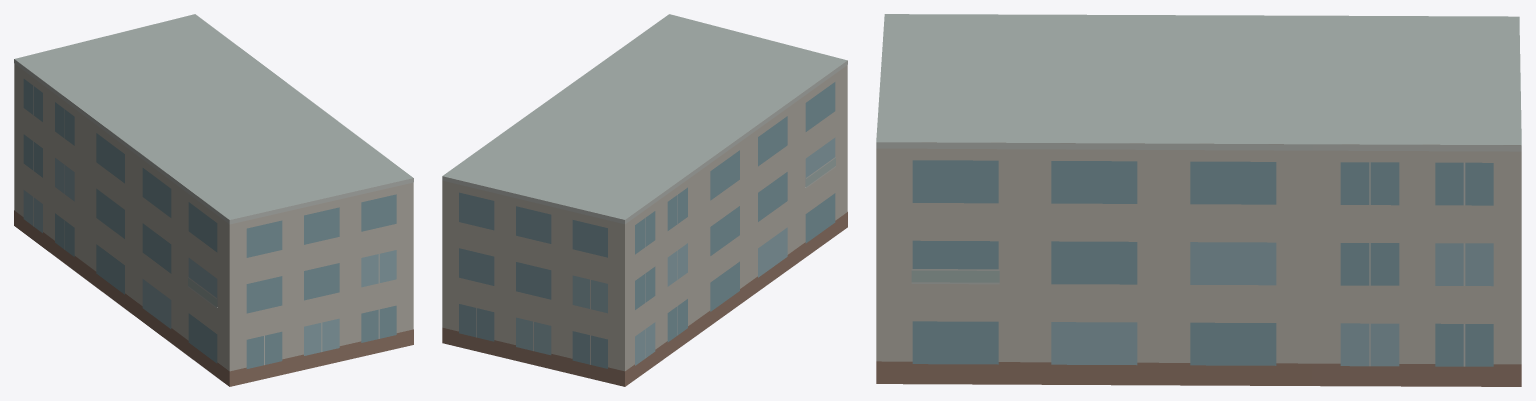
File: survey-upis-32613568.glb
3 views of the same model, side by side, from view 1: azimuth 30°, elevation 25°; view 2: azimuth 150°, elevation 25°; view 3: azimuth 270°, elevation 25° (orthographic). The views are drawn at different scales.
Visible parts, largest first — view 1: survey-upis-32613568.tmp; view 2: survey-upis-32613568.tmp; view 3: survey-upis-32613568.tmp.
Part boxes in pixels (left/top/right/bottom): survey-upis-32613568.tmp: left=14, top=14, right=413, bottom=386; survey-upis-32613568.tmp: left=442, top=14, right=847, bottom=386; survey-upis-32613568.tmp: left=876, top=14, right=1521, bottom=386.
Size of the model in its own units: 10.73 by 9.2 by 22.28.
